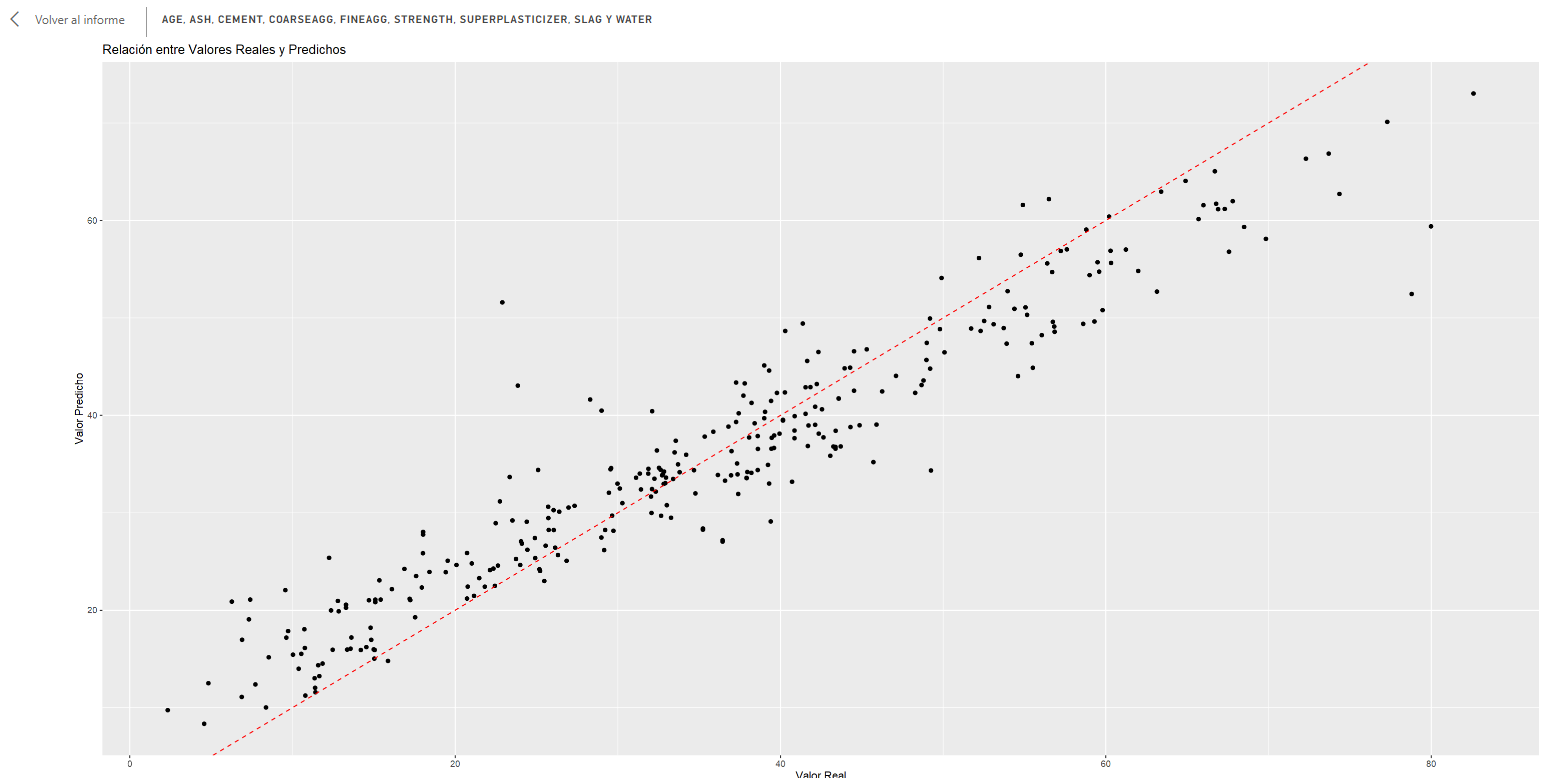

Layout of this report page (visuals, bound fields, positions):
{"tool":"powerbi","page":{"name":"Random-Forest","canvas":[1280,720],"ordinal":5},"visuals":[{"type":"scriptVisual","fields":{"Values":["Characteristics-of-Concrete.Age","Characteristics-of-Concrete.Ash","Characteristics-of-Concrete.cement","Characteristics-of-Concrete.CoarseAgg","Characteristics-of-Concrete.FineAgg","Characteristics-of-Concrete.strength","Characteristics-of-Concrete.superplasticizer","Characteristics-of-Concrete.slag","Characteristics-of-Concrete.water"]},"box":[0,0,1280,720],"z":0}]}

Visuals, with their boxes on the page's 1280x720 design canvas (x1, y1, x2, y2). These are canvas units, not pixel positions in the 1553x778 screenshot, which may show the page scaled, cropped or inside an application window:
scriptVisual - Characteristics-of-Concrete.Age x Characteristics-of-Concrete.Ash: region(0, 0, 1280, 720)
